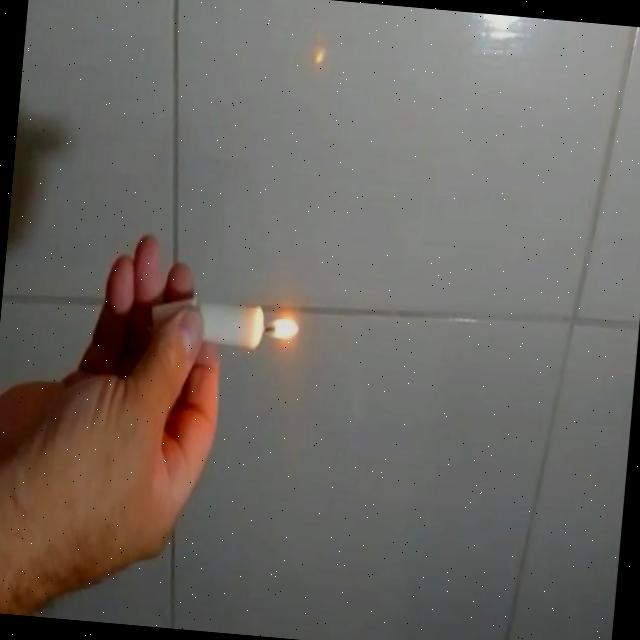fire: (260, 307, 307, 353)
